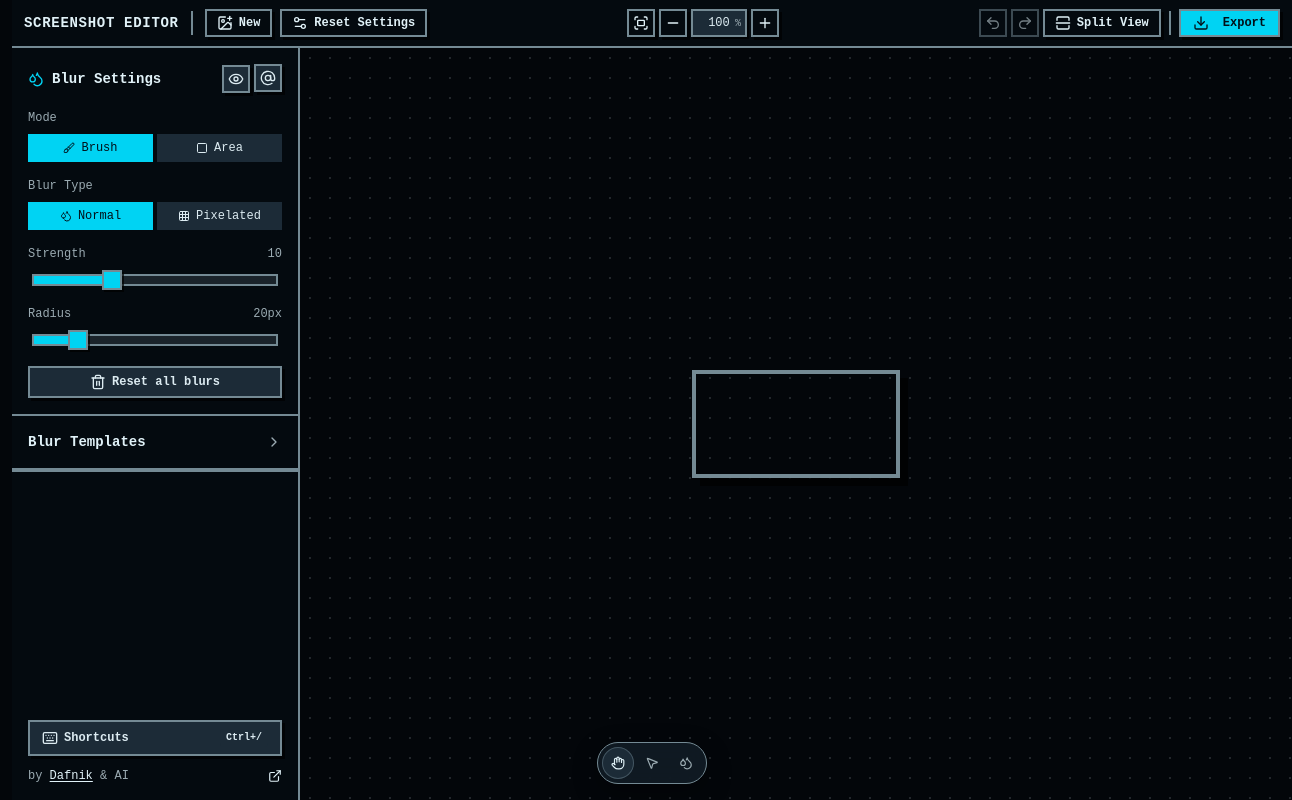
EditorSidebar shortcut tooltips › explains auto-blur apply-on-load checkboxes on hover
This screenshot has width=1292, height=800.
Step 1. Click the button named "open auto blur menu" → coordinates (268, 78), box top-left (254, 64), bottom-right (282, 92)
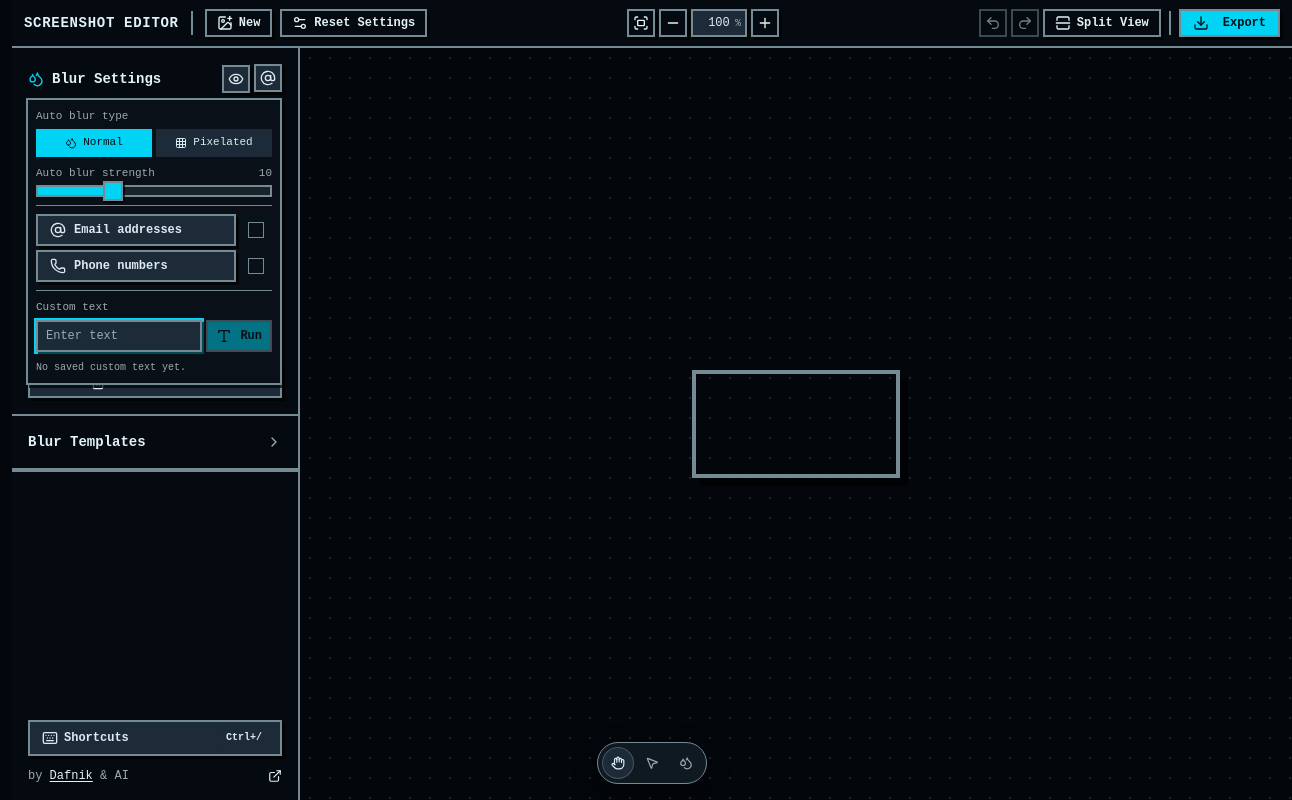
Step 2. Hover over the button named "apply email auto blur on document load" → coordinates (256, 230), box top-left (240, 214), bottom-right (272, 246)
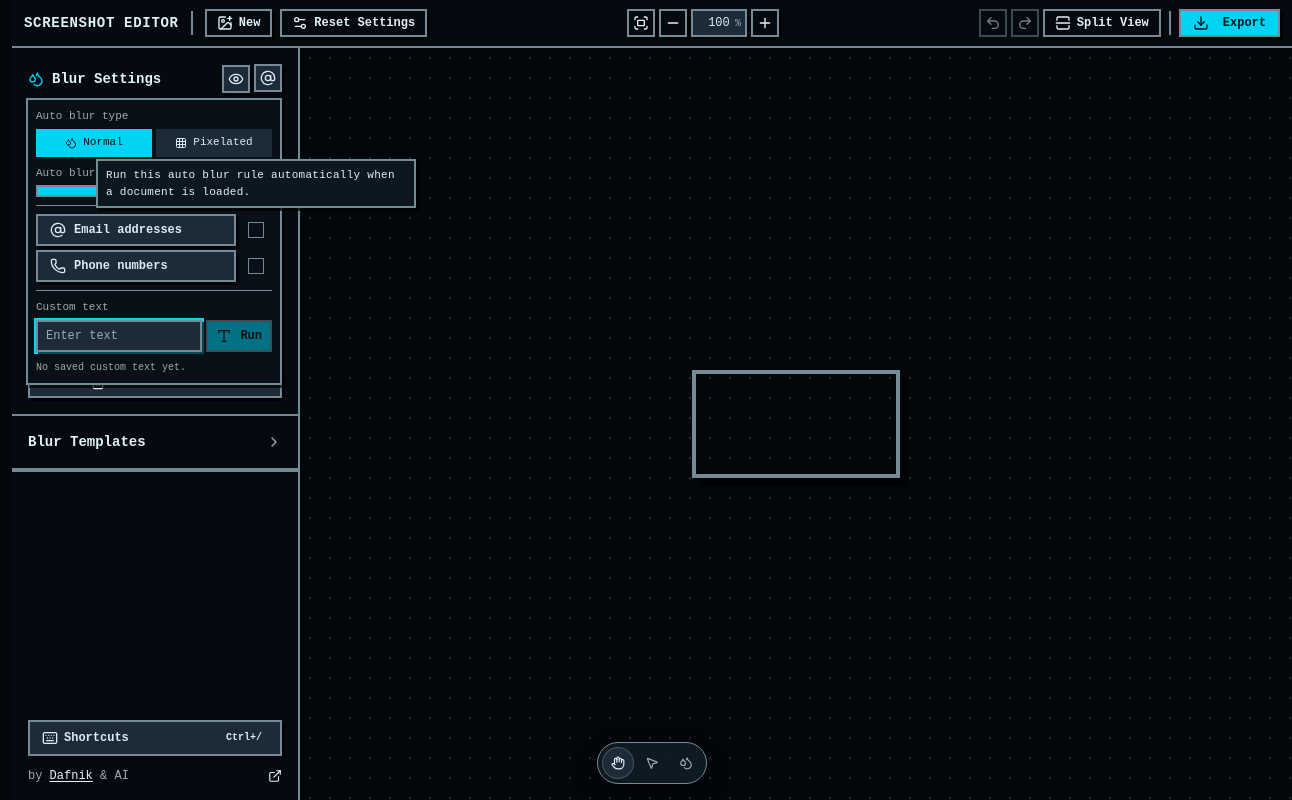
Now the tooltip "Run this auto blur rule automatically when a document is loaded." is shown, box top-left (96, 159), bottom-right (416, 208)
